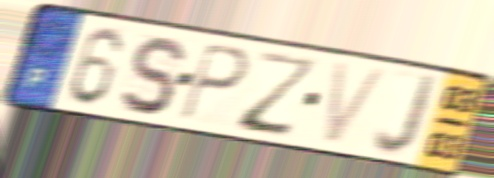6: (67, 23, 126, 110)
J: (371, 70, 442, 160)
P: (177, 40, 252, 123)
S: (117, 33, 187, 118)
V: (320, 58, 393, 148)
Z: (235, 48, 322, 141)
